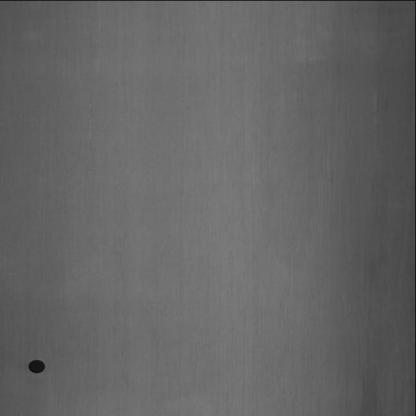punching_hole: (27, 354, 48, 377)
